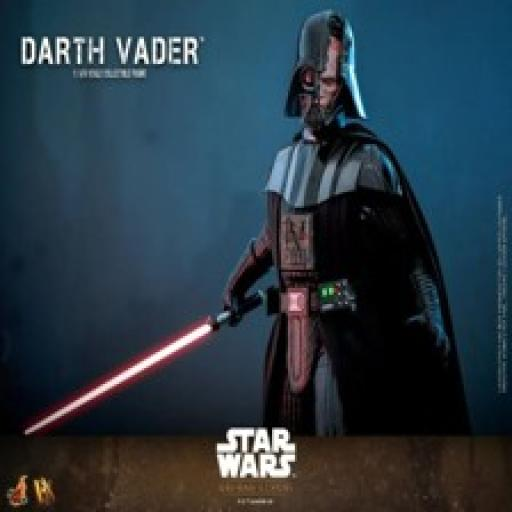human: (211, 9, 464, 430)
sith saber: (13, 285, 276, 438)
